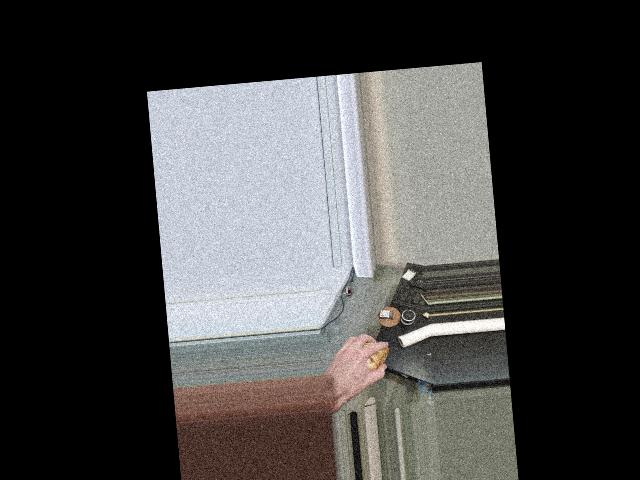onion: (346, 340, 392, 381)
